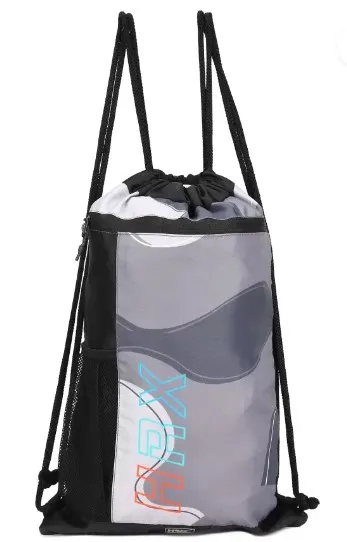backpack: (35, 9, 319, 536)
